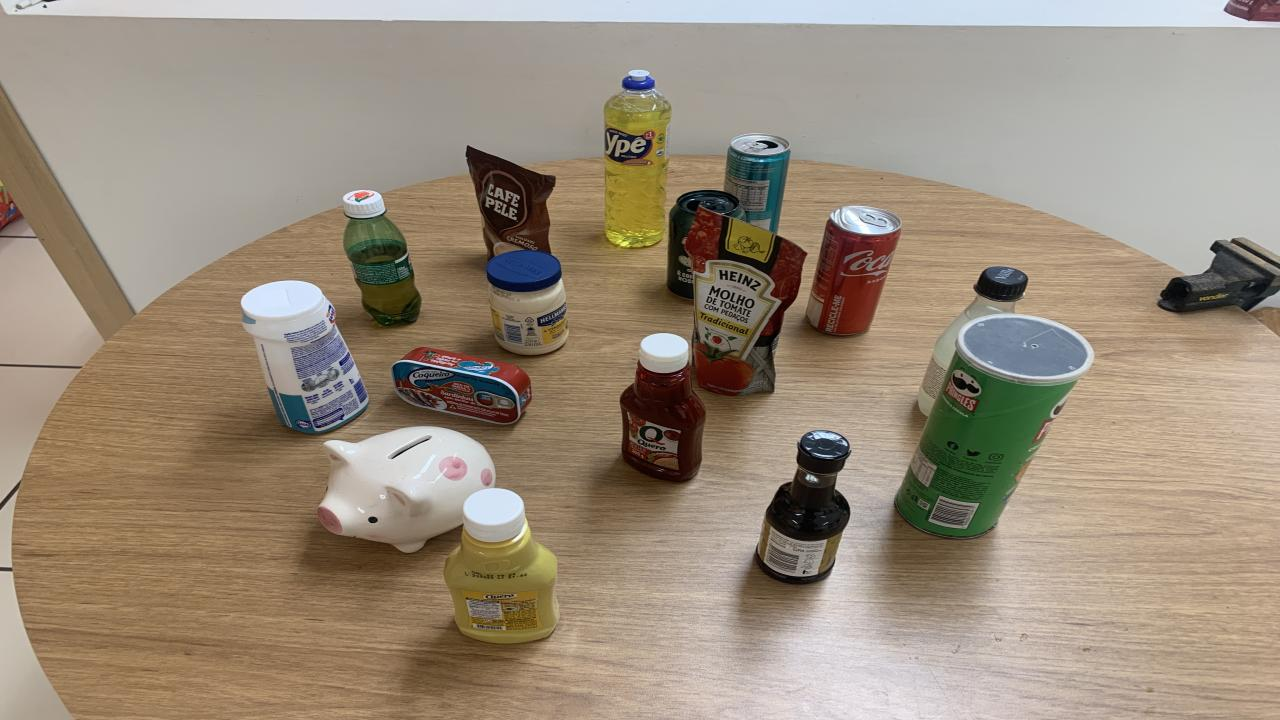Cleaner-Cleanup_Items: (242, 279, 368, 433)
Coffee-Pantry_Items: (465, 146, 555, 257)
Coke-Drinks: (808, 206, 902, 336)
Detergent-Cleanup_Items: (605, 69, 672, 248)
English_Sauce-Pantry_Items: (755, 429, 850, 583)
Guarana-Drinks: (342, 189, 420, 326)
Guarana_Can-Drinks: (668, 189, 745, 298)
Ketchup-Pantry_Items: (620, 334, 705, 482)
Mayonnaise-Pantry_Items: (488, 249, 568, 354)
Mustard-Pantry_Items: (445, 488, 558, 643)
Pig_Safe-Miscellaneous: (318, 426, 495, 553)
Pringles-Snacks: (895, 313, 1095, 538)
Soda-Drinks: (918, 266, 1028, 416)
Tea-Drinks: (725, 133, 790, 232)
Tomato_Sauce-Pantry_Items: (685, 210, 805, 396)
Tuna_Can-Pantry_Items: (392, 347, 532, 424)
